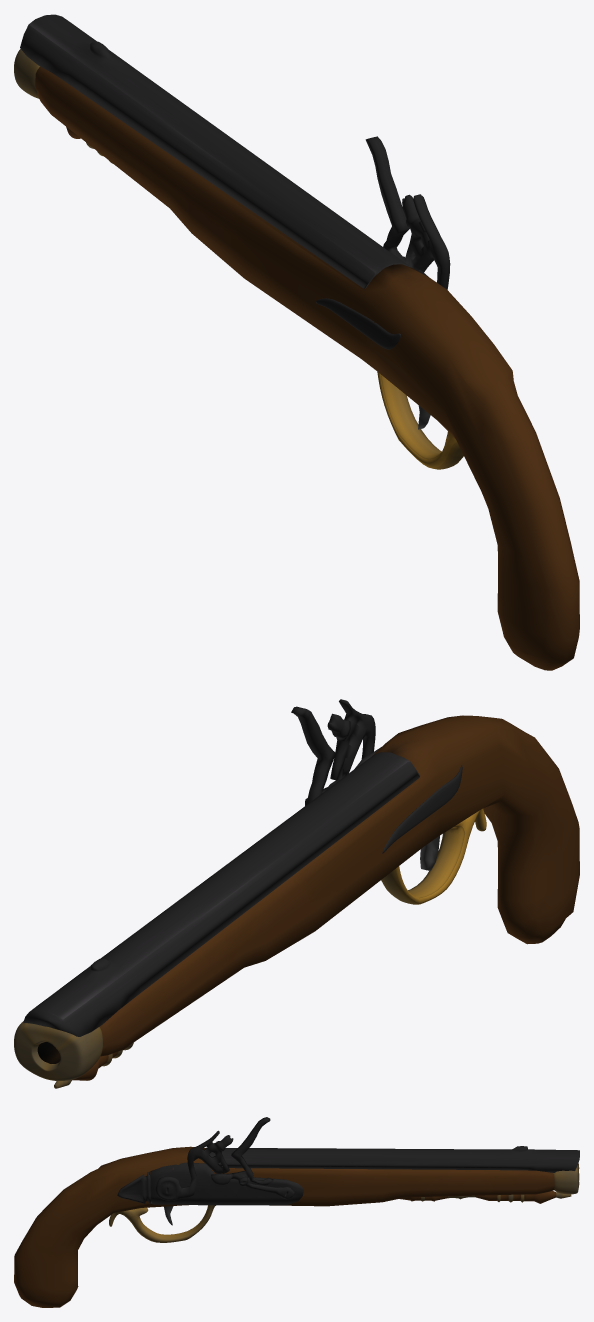
Rendered from FLINTLOCKPISTOL1_valmis.fbx.
3 renders of one model, top to bottom at view 1: azimuth 30°, elevation 25°; view 2: azimuth 150°, elevation 25°; view 3: azimuth 270°, elevation 25°, orthographic. The views are drawn at different scales.
Parts seen in each view (by area): view 1: Cube, Cube.001, Cube.009, Cube.007, Cube.006, Cube.008, Cube.002; view 2: Cube, Cube.001, Cube.002, Cube.009, Cube.007, Cube.006, Cube.008, Cylinder.001; view 3: Cube, Cube.001, Cube.005, Cube.007, Cube.006, Cube.009, Cylinder.001, Cube.002.
Boxes of the visible parts, <box> form: Cube: <box>35,66,579,670</box>; Cube.001: <box>20,14,411,288</box>; Cube.009: <box>377,372,463,469</box>; Cube.007: <box>402,194,450,289</box>; Cube.006: <box>365,136,409,263</box>; Cube.008: <box>316,298,400,349</box>; Cube.002: <box>14,49,39,98</box>; Cube: <box>37,715,579,1063</box>; Cube.001: <box>23,752,419,1036</box>; Cube.002: <box>14,1021,102,1080</box>; Cube.009: <box>381,808,486,904</box>; Cube.007: <box>327,699,375,780</box>; Cube.006: <box>291,706,338,805</box>; Cube.008: <box>382,765,462,853</box>; Cylinder.001: <box>54,1042,133,1088</box>; Cube: <box>14,1146,554,1307</box>; Cube.001: <box>205,1146,579,1172</box>; Cube.005: <box>117,1162,303,1205</box>; Cube.007: <box>155,1130,233,1200</box>; Cube.006: <box>211,1117,294,1199</box>; Cube.009: <box>109,1205,215,1242</box>; Cylinder.001: <box>399,1191,571,1203</box>; Cube.002: <box>552,1163,579,1194</box>.
Size of the model in its own units: 43.61 by 176 by 455.
